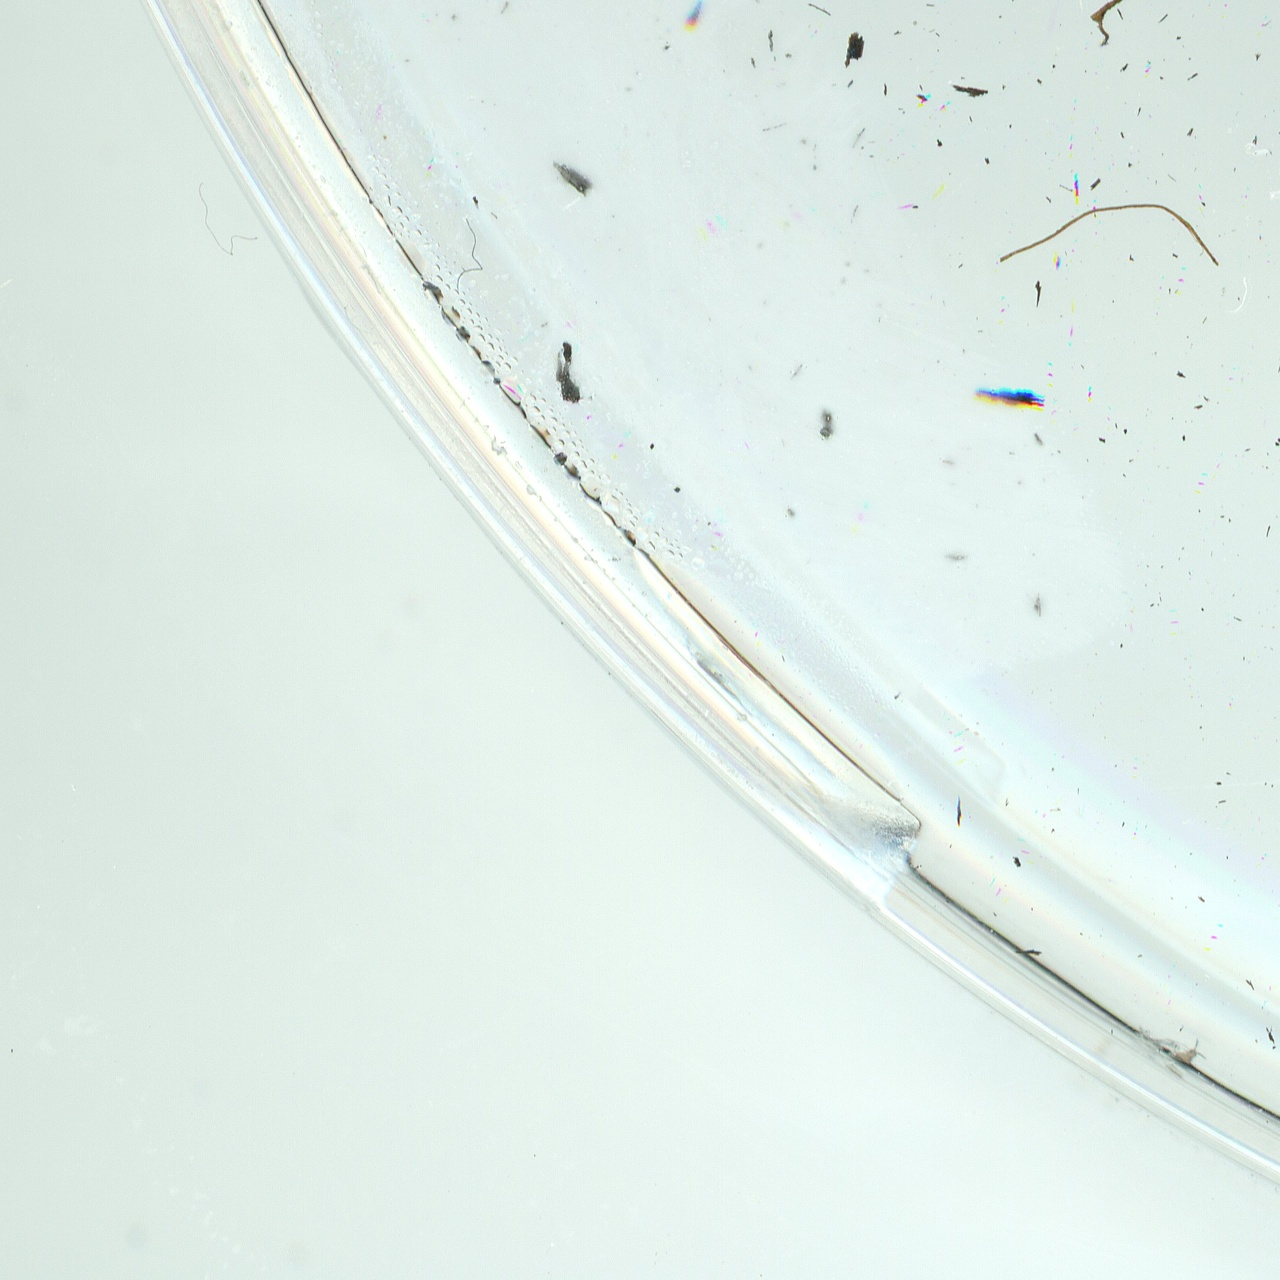arthropod: (1169, 1029, 1213, 1073)
